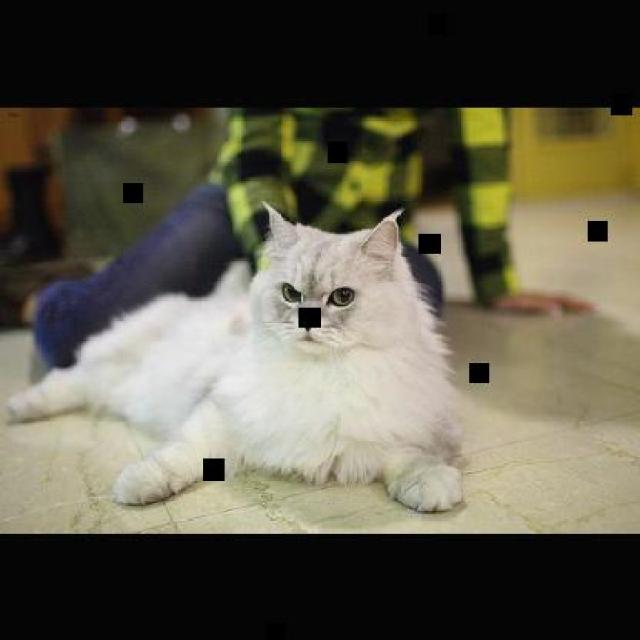unauthorized: (5, 198, 468, 514)
